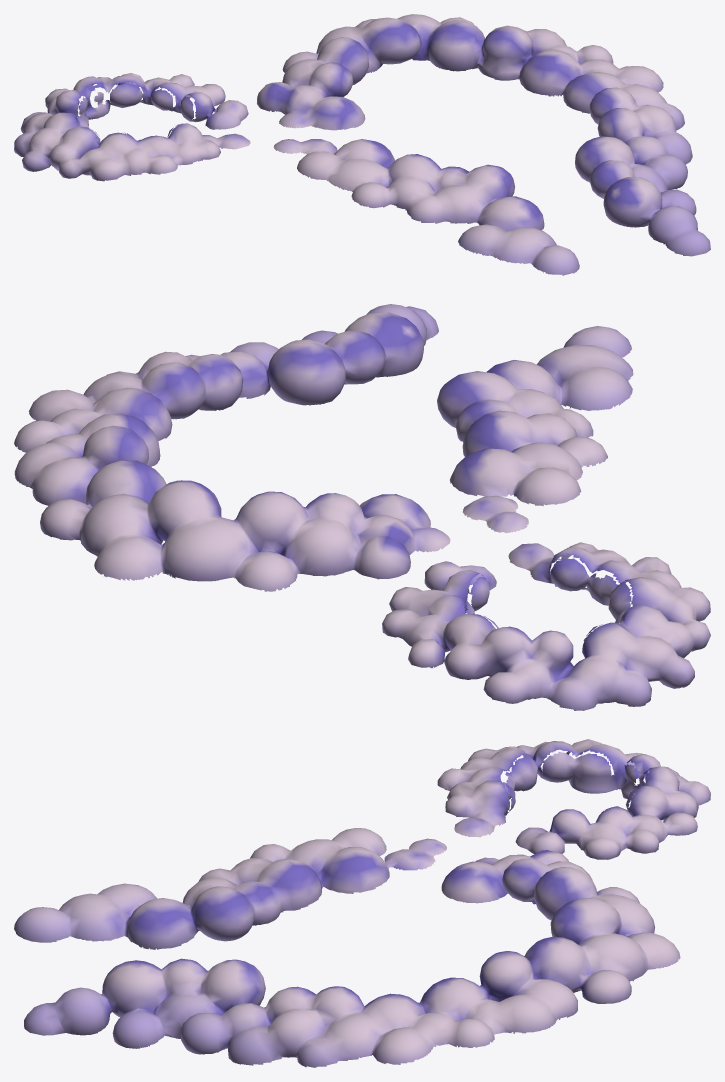
The model's file is Puffs.glb.
3 views of the same model, one above another, from view 1: azimuth 30°, elevation 25°; view 2: azimuth 150°, elevation 25°; view 3: azimuth 270°, elevation 25° (orthographic). The views are drawn at different scales.
Visible parts, largest first — view 1: CloudPuffs_Platform, CloudPuffs_Dock; view 2: CloudPuffs_Platform, CloudPuffs_Dock; view 3: CloudPuffs_Platform, CloudPuffs_Dock.
Boxes of the visible parts, box(x1,y1,x2,y2) form: CloudPuffs_Platform: box(257, 14, 710, 275); CloudPuffs_Dock: box(14, 73, 250, 181); CloudPuffs_Platform: box(14, 304, 633, 591); CloudPuffs_Dock: box(382, 542, 710, 710); CloudPuffs_Platform: box(14, 828, 680, 1067); CloudPuffs_Dock: box(437, 739, 710, 859).
Size of the model in its own units: 2.01 by 0.2543 by 1.87.
